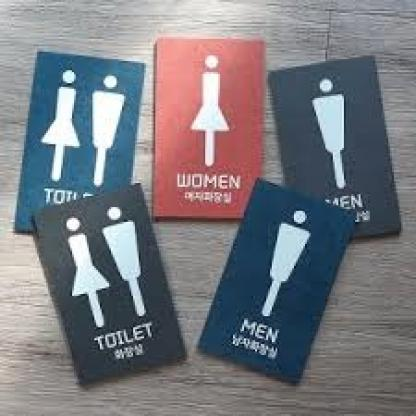toilet: (44, 194, 169, 338), (31, 61, 136, 193)
